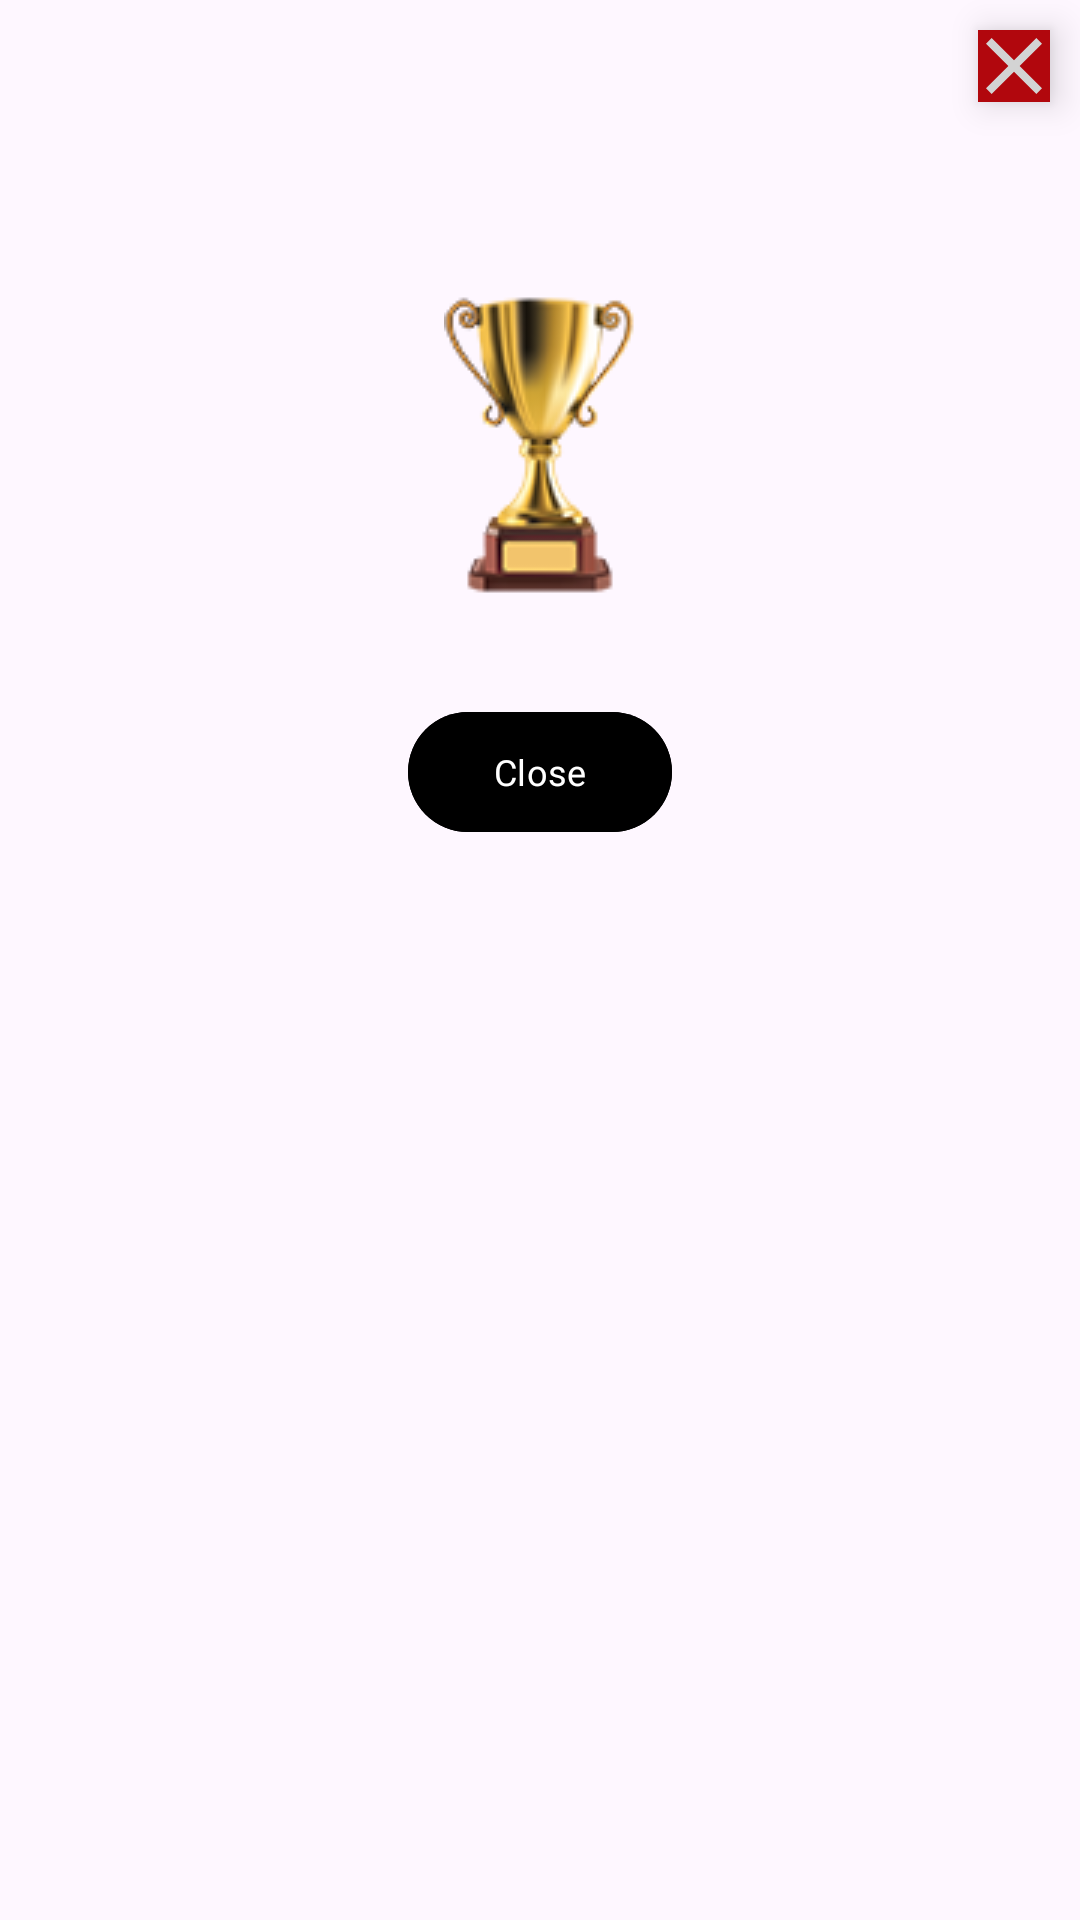

Named icons in this screenshot (1080*1920) and their bounding boxes, bbox=(x1, y1, x2, y2):
Close: bbox=(978, 30, 1050, 102)
trophy: bbox=(444, 297, 634, 593)
